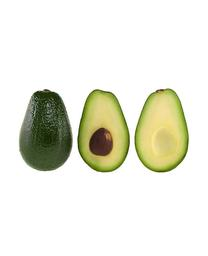avocado: (134, 89, 189, 173), (18, 90, 72, 171), (78, 89, 130, 172)
